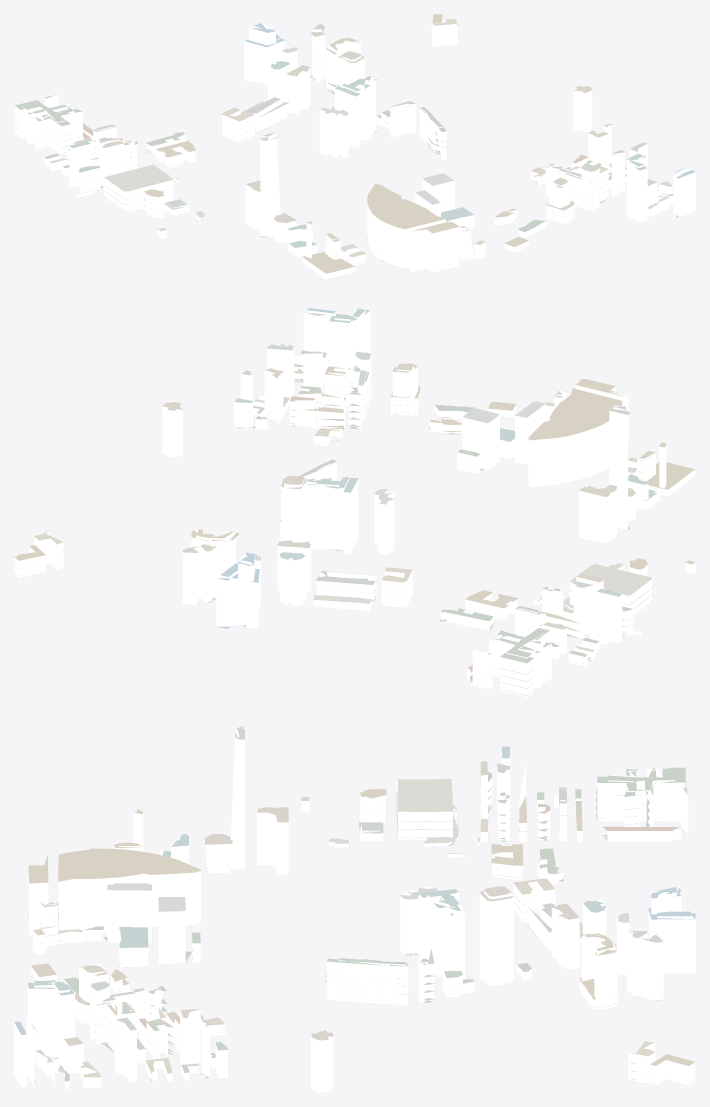
The model's file is buildings-7_1-coarse.glb.
3 views of the same model, one above another, from view 1: azimuth 30°, elevation 25°; view 2: azimuth 150°, elevation 25°; view 3: azimuth 270°, elevation 25° (orthographic). The views are drawn at different scales.
Visible parts, largest first — view 1: block_7_1_office, block_7_1_residential, block_7_1_roof; view 2: block_7_1_office, block_7_1_residential, block_7_1_roof; view 3: block_7_1_office, block_7_1_residential, block_7_1_roof.
Boxes of the visible parts, bbox=[...] form: block_7_1_office: bbox=[69, 24, 695, 272]; block_7_1_residential: bbox=[14, 18, 673, 279]; block_7_1_roof: bbox=[14, 14, 695, 273]; block_7_1_office: bbox=[162, 309, 666, 643]; block_7_1_residential: bbox=[14, 355, 695, 697]; block_7_1_roof: bbox=[14, 308, 695, 697]; block_7_1_office: bbox=[14, 728, 695, 1092]; block_7_1_residential: bbox=[30, 764, 695, 1088]; block_7_1_roof: bbox=[14, 726, 695, 1085].
Bounding box in the file's own units: 660 × 140 × 639.
